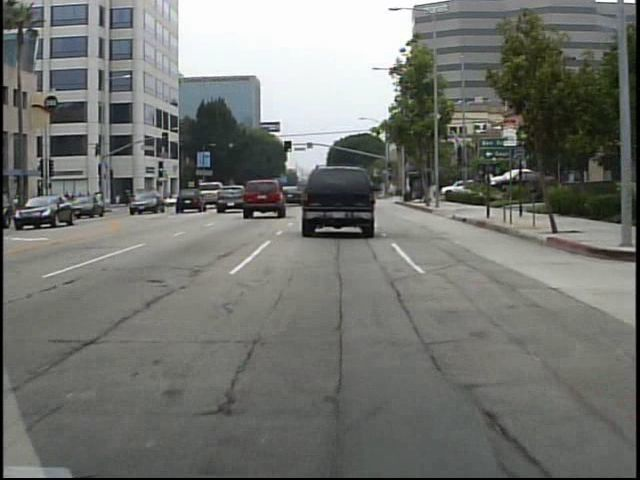person: (135, 186, 147, 208), (386, 181, 397, 201)
